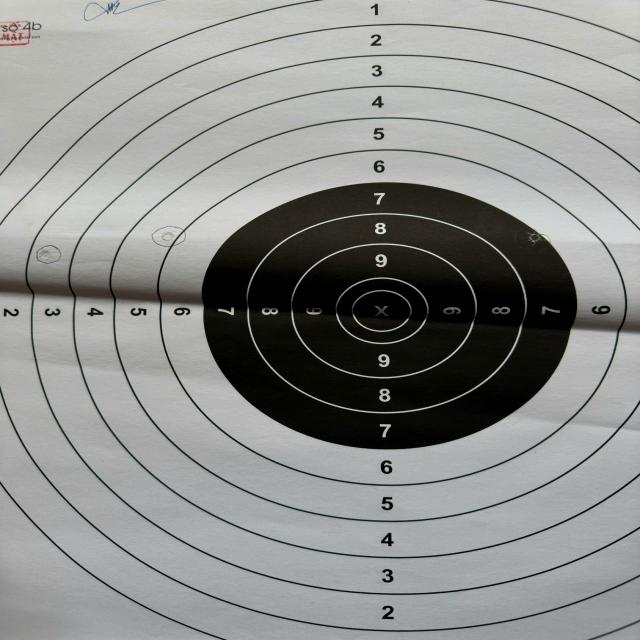bullet: (528, 232, 540, 244), (160, 232, 172, 242), (40, 248, 50, 260)
